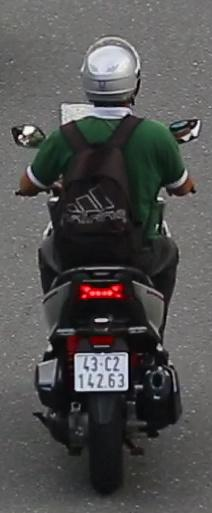LP: (73, 349, 132, 398)
helmet: (81, 30, 143, 120)
